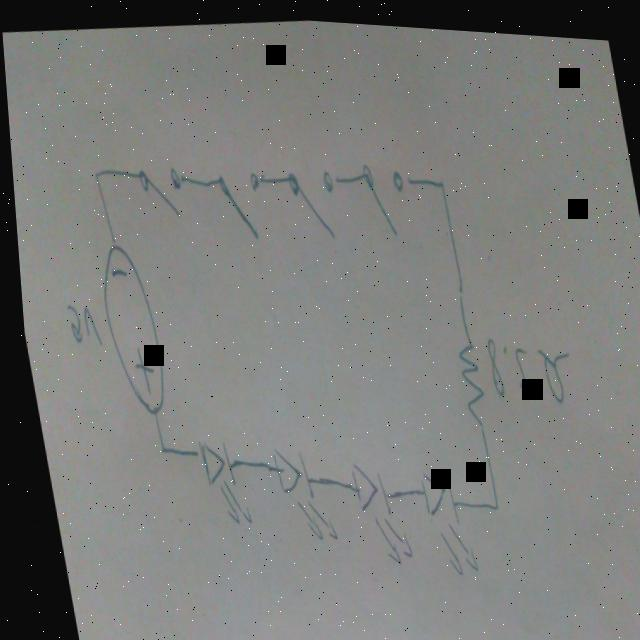diode: (409, 458, 475, 579), (261, 434, 332, 546), (340, 448, 408, 564), (190, 425, 247, 533)
junction: (147, 428, 164, 461), (431, 164, 447, 195), (87, 163, 103, 191), (481, 484, 495, 509)
resistor: (446, 315, 485, 429)
source: (84, 233, 169, 420)
switch: (356, 152, 416, 239), (281, 156, 343, 239), (211, 162, 270, 242), (134, 157, 187, 226)
text: (478, 319, 574, 407), (57, 290, 99, 351)
